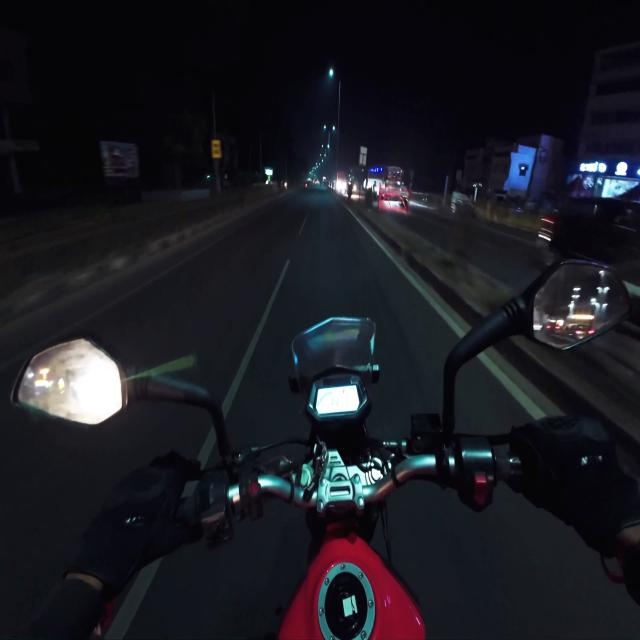motorcycle: (13, 261, 630, 639)
